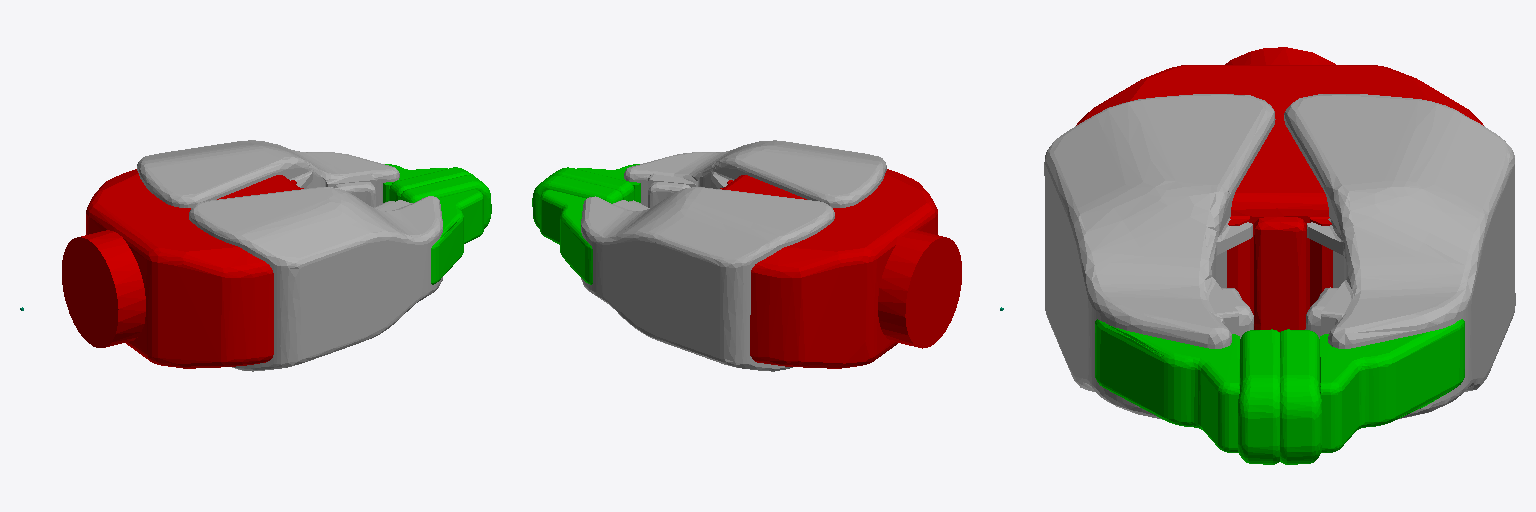
robot.urdf — pr2hand:
<?xml version="1.0" ?>
<!-- =================================================================================== -->
<!-- |    This document was autogenerated by xacro from robots/pr2hand.urdf.xacro      | -->
<!-- |    EDITING THIS FILE BY HAND IS NOT RECOMMENDED                                 | -->
<!-- =================================================================================== -->
<robot name="pr2hand">
  <material name="Blue">
    <color rgba="0.0 0.0 0.8 1.0"/>
  </material>
  <material name="Green">
    <color rgba="0.0 0.8 0.0 1.0"/>
  </material>
  <material name="Grey">
    <color rgba="0.7 0.7 0.7 1.0"/>
  </material>
  <material name="Grey2">
    <color rgba="0.9 0.9 0.9 1.0"/>
  </material>
  <material name="Red">
    <color rgba="0.8 0.0 0.0 1.0"/>
  </material>
  <material name="White">
    <color rgba="1.0 1.0 1.0 1.0"/>
  </material>
  <material name="Black">
    <color rgba="0.1 0.1 0.1 1.0"/>
  </material>
  <material name="LightGrey">
    <color rgba="0.6 0.6 0.6 1.0"/>
  </material>
  <material name="Caster">
    <texture filename="package://pr2hand/materials/textures/pr2_caster_texture.png"/>
  </material>
  <material name="Wheel_l">
    <texture filename="package://pr2hand/materials/textures/pr2_wheel_left.png"/>
  </material>
  <material name="Wheel_r">
    <texture filename="package://pr2hand/materials/textures/pr2_wheel_right.png"/>
  </material>
  <material name="RollLinks">
    <texture filename="package://pr2hand/materials/textures/pr2_wheel_left.png"/>
  </material>
  <link name="base_link">
    <inertial>
      <mass value="0.58007"/>
      <origin rpy="0 0 0" xyz="0.06623 0.00053 -0.00119"/>
      <inertia ixx="0.00035223921" ixy="-0.00001580476" ixz="-0.00000091750" iyy="0.00067741312" iyz="-0.00000059554" izz="0.00086563316"/>
    </inertial>
    <visual>
      <origin rpy="0 0 0" xyz="0 0 0"/>
      <geometry>
        <mesh filename="package://pr2hand/meshes/gripper_v0/gripper_palm.dae"/>
      </geometry>
      <material name="Red"/>
    </visual>
    <collision>
      <origin rpy="0 0 0" xyz="0 0 0"/>
      <geometry>
        <mesh filename="package://pr2hand/meshes/gripper_v0/gripper_palm.stl"/>
      </geometry>
    </collision>
  </link>
  <joint name="r_gripper_led_joint" type="fixed">
    <!--  Need to check if we need a positive or negative Z term -->
    <origin xyz="0.0513 0.0 .0244"/>
    <parent link="base_link"/>
    <child link="r_gripper_led_frame"/>
  </joint>
  <link name="r_gripper_led_frame"/>
  <joint name="r_gripper_motor_accelerometer_joint" type="fixed">
    <origin rpy="0 0 0" xyz="0 0 0"/>
    <parent link="base_link"/>
    <child link="r_gripper_motor_accelerometer_link"/>
  </joint>
  <link name="r_gripper_motor_accelerometer_link">
    <inertial>
      <mass value="0.001"/>
      <origin rpy="0 0 0" xyz="0 0 0"/>
      <inertia ixx="0.001" ixy="0.0" ixz="0.0" iyy="0.001" iyz="0.0" izz="0.001"/>
    </inertial>
    <visual>
      <origin rpy="0 0 0" xyz="0 0 0"/>
      <geometry>
        <box size="0.001 0.001 0.001"/>
      </geometry>
    </visual>
    <collision>
      <origin rpy="0 0 0" xyz="0 0 0"/>
      <geometry>
        <box size="0.001 0.001 0.001"/>
      </geometry>
    </collision>
  </link>
  <joint name="r_gripper_tool_joint" type="fixed">
    <origin rpy="0 0 0" xyz="0.18 0 0"/>
    <parent link="base_link"/>
    <child link="r_gripper_tool_frame"/>
  </joint>
  <link name="r_gripper_tool_frame"/>
  <!-- actuated motor screw joint -->
  <link name="r_gripper_motor_slider_link">
    <inertial>
      <mass value="0.01"/>
      <origin rpy="0 0 0" xyz="0 0 0"/>
      <inertia ixx="0.001" ixy="0.0" ixz="0.0" iyy="0.001" iyz="0.0" izz="0.001"/>
    </inertial>
    <!-- for debugging only
      <visual>
        <origin xyz="0 0 0" rpy="1.5708 0 0" />
        <geometry>
          <cylinder length="0.002" radius="0.025"/>
        </geometry>
      </visual>
      <collision>
        <origin xyz="0 0 0" rpy="1.5708 0 0" />
        <geometry>
          <cylinder length="0.002" radius="0.025"/>
        </geometry>
      </collision>
      -->
  </link>
  <joint name="r_gripper_motor_slider_joint" type="prismatic">
    <origin rpy="0 0 0" xyz="0.16828 0 0"/>
    <axis xyz="1 0 0"/>
    <parent link="base_link"/>
    <child link="r_gripper_motor_slider_link"/>
    <limit effort="1000.0" lower="-0.1" upper="0.1" velocity="0.2"/>
  </joint>
  <link name="r_gripper_motor_screw_link">
    <inertial>
      <mass value="0.01"/>
      <origin rpy="0 0 0" xyz="0 0 0"/>
      <inertia ixx="0.0001" ixy="0.0" ixz="0.0" iyy="0.0001" iyz="0.0" izz="0.0001"/>
    </inertial>
    <!-- for debugging only
      <visual>
        <origin xyz="0 0 0" rpy="0 0 0" />
        <geometry>
          <box size="0.05 0.001 0.05" />
        </geometry>
      </visual>
      <collision>
        <origin xyz="0 0 0" rpy="0 0 0" />
        <geometry>
          <box size="0.05 0.001 0.05" />
        </geometry>
      </collision>
      -->
  </link>
  <joint name="r_gripper_motor_screw_joint" type="continuous">
    <origin rpy="0 0 0" xyz="0.0 0 0"/>
    <axis xyz="0 1 0"/>
    <parent link="r_gripper_motor_slider_link"/>
    <child link="r_gripper_motor_screw_link"/>
    <dynamics damping="0.0001"/>
  </joint>
  <!-- Finger proximal digit -->
  <joint name="r_gripper_l_finger_joint" type="revolute">
    <axis xyz="0 0 1"/>
    <!-- limits on passive finger and finger top joints without
         transmission are not enforced by safety controllers.
         The lower/upper limits and are enforced in PR2 simulation and
         effort and velocity limits are ignored. This is also needed because
         these joints are declared revolute rather than continuous.-->
    <limit effort="1000.0" lower="0.0" upper="0.548" velocity="0.5"/>
    <dynamics damping="0.02"/>
    <origin rpy="0 0 0" xyz="0.07691 0.01 0"/>
    <parent link="base_link"/>
    <child link="r_gripper_l_finger_link"/>
  </joint>
  <link name="r_gripper_l_finger_link">
    <inertial>
      <mass value="0.17126"/>
      <origin rpy="0 0 0" xyz="0.03598 0.01730 -0.00164"/>
      <inertia ixx="0.00007756198" ixy="0.00000149095" ixz="-0.00000983385" iyy="0.00019708305" iyz="-0.00000306125" izz="0.00018105446"/>
    </inertial>
    <visual>
      <origin rpy="0 0 0" xyz="0 0 0"/>
      <geometry>
        <mesh filename="package://pr2hand/meshes/gripper_v0/l_finger.dae"/>
      </geometry>
      <material name="Grey"/>
    </visual>
    <collision>
      <origin rpy="0 0 0" xyz="0 0 0"/>
      <geometry>
        <mesh filename="package://pr2hand/meshes/gripper_v0/l_finger.stl"/>
      </geometry>
    </collision>
  </link>
  <joint name="r_gripper_l_keypoint1_joint" type="revolute">
    <axis xyz="0 0 1"/>
    <!-- <origin xyz="${0.09137} ${-0.00495} 0" rpy="0 0 0" /> -->
    <origin rpy="0 0 0" xyz="0.071 0.0032 0.0"/>
    <!-- limits on passive finger and finger top joints without
         transmission are not enforced by safety controllers.
         The lower/upper limits and are enforced in PR2 simulation and
         effort and velocity limits are ignored. This is also needed because
         these joints are declared revolute rather than continuous.-->
    <limit effort="1000.0" lower="0.0" upper="0.548" velocity="0.5"/>
    <dynamics damping="0.001"/>
    <parent link="r_gripper_l_finger_link"/>
    <child link="r_gripper_l_keypoint1_link"/>
  </joint>
  <link name="r_gripper_l_keypoint1_link"/>
  <!-- Finger proximal digit -->
  <joint name="r_gripper_r_finger_joint" type="revolute">
    <axis xyz="0 0 -1"/>
    <origin rpy="0 0 0" xyz="0.07691 -0.01 0"/>
    <!-- limits on passive finger and finger top joints without
         transmission are not enforced by safety controllers.
         The lower/upper limits and are enforced in PR2 simulation and
         effort and velocity limits are ignored. This is also needed because
         these joints are declared revolute rather than continuous.-->
    <limit effort="1000.0" lower="0.0" upper="0.548" velocity="0.5"/>
    <dynamics damping="0.02"/>
    <mimic joint="r_gripper_l_finger_joint" multiplier="1" offset="0"/>
    <parent link="base_link"/>
    <child link="r_gripper_r_finger_link"/>
  </joint>
  <link name="r_gripper_r_finger_link">
    <inertial>
      <mass value="0.17389"/>
      <origin rpy="0 0 0" xyz="0.03576 -0.01736 -0.00095"/>
      <inertia ixx="0.00007738410" ixy="-0.00000209309" ixz="-0.00000836228" iyy="0.00019847383" iyz="0.00000246110" izz="0.00018106988"/>
    </inertial>
    <visual>
      <origin rpy="3.141592653589793 0 0" xyz="0 0 0"/>
      <geometry>
        <mesh filename="package://pr2hand/meshes/gripper_v0/l_finger.dae"/>
      </geometry>
      <material name="Grey"/>
    </visual>
    <collision>
      <origin rpy="3.141592653589793 0 0" xyz="0 0 0"/>
      <geometry>
        <mesh filename="package://pr2hand/meshes/gripper_v0/l_finger.stl"/>
      </geometry>
    </collision>
  </link>
  <!-- Finger tip -->
  <joint name="r_gripper_l_finger_tip_joint" type="revolute">
    <axis xyz="0 0 -1"/>
    <origin rpy="0 0 0" xyz="0.09137 0.00495 0"/>
    <!-- limits on passive finger and finger top joints without
         transmission are not enforced by safety controllers.
         The lower/upper limits and are enforced in PR2 simulation and
         effort and velocity limits are ignored. This is also needed because
         these joints are declared revolute rather than continuous.-->
    <limit effort="1000.0" lower="0.0" upper="0.548" velocity="0.5"/>
    <dynamics damping="0.001"/>
    <mimic joint="r_gripper_l_finger_joint" multiplier="1" offset="0"/>
    <parent link="r_gripper_l_finger_link"/>
    <child link="r_gripper_l_finger_tip_link"/>
  </joint>
  <link name="r_gripper_l_finger_tip_link">
    <inertial>
      <mass value="0.04419"/>
      <origin rpy="0 0 0" xyz="0.00423 0.00284 0.0"/>
      <inertia ixx="0.00000837047" ixy="0.00000583632" ixz="0.0" iyy="0.00000987067" iyz="0.0" izz="0.00001541768"/>
    </inertial>
    <visual>
      <origin rpy="0 0 0" xyz="0 0 0"/>
      <geometry>
        <mesh filename="package://pr2hand/meshes/gripper_v0/l_finger_tip.dae"/>
      </geometry>
      <material name="Green"/>
    </visual>
    <collision>
      <origin rpy="0 0 0" xyz="0 0 0"/>
      <geometry>
        <mesh filename="package://pr2hand/meshes/gripper_v0/l_finger_tip.stl"/>
      </geometry>
    </collision>
  </link>
  <!-- Finger tip -->
  <joint name="r_gripper_r_finger_tip_joint" type="revolute">
    <axis xyz="0 0 1"/>
    <origin rpy="0 0 0" xyz="0.09137 -0.00495 0"/>
    <!-- limits on passive finger and finger top joints without
         transmission are not enforced by safety controllers.
         The lower/upper limits and are enforced in PR2 simulation and
         effort and velocity limits are ignored. This is also needed because
         these joints are declared revolute rather than continuous.-->
    <limit effort="1000.0" lower="0.0" upper="0.548" velocity="0.5"/>
    <dynamics damping="0.001"/>
    <mimic joint="r_gripper_l_finger_joint" multiplier="1" offset="0"/>
    <parent link="r_gripper_r_finger_link"/>
    <child link="r_gripper_r_finger_tip_link"/>
  </joint>
  <link name="r_gripper_r_finger_tip_link">
    <inertial>
      <mass value="0.04419"/>
      <origin rpy="0 0 0" xyz="0.00423 -0.00284 0.0"/>
      <inertia ixx="0.00000837047" ixy="-0.00000583632" ixz="0.0" iyy="0.00000987067" iyz="0.0" izz="0.00001541768"/>
    </inertial>
    <visual>
      <origin rpy="3.141592653589793 0 0" xyz="0 0 0"/>
      <geometry>
        <mesh filename="package://pr2hand/meshes/gripper_v0/l_finger_tip.dae"/>
      </geometry>
      <material name="Green"/>
    </visual>
    <collision>
      <origin rpy="3.141592653589793 0 0" xyz="0 0 0"/>
      <geometry>
        <mesh filename="package://pr2hand/meshes/gripper_v0/l_finger_tip.stl"/>
      </geometry>
    </collision>
  </link>
  <joint name="r_gripper_r_keypoint1_joint" type="revolute">
    <axis xyz="0 0 1"/>
    <!-- <origin xyz="${0.09137} ${-0.00495} 0" rpy="0 0 0" /> -->
    <origin rpy="0 0 0" xyz="0.071 -0.0032 0.0"/>
    <!-- limits on passive finger and finger top joints without
         transmission are not enforced by safety controllers.
         The lower/upper limits and are enforced in PR2 simulation and
         effort and velocity limits are ignored. This is also needed because
         these joints are declared revolute rather than continuous.-->
    <limit effort="1000.0" lower="0.0" upper="0.548" velocity="0.5"/>
    <dynamics damping="0.001"/>
    <parent link="r_gripper_r_finger_link"/>
    <child link="r_gripper_r_keypoint1_link"/>
  </joint>
  <link name="r_gripper_r_keypoint1_link"/>
  <!-- Finger proximal digit -->
  <gazebo reference="r_gripper_l_finger_link">
    <turnGravityOff>true</turnGravityOff>
    <mu1 value="500.0"/>
    <mu2 value="500.0"/>
    <kp value="1000000.0"/>
    <kd value="1.0"/>
    <!-- for "${prefix}_l_finger_joint"-->
  </gazebo>
  <gazebo reference="r_gripper_l_finger_joint">
    <stopKd value="1.0"/>
    <stopKp value="10000000.0"/>
    <fudgeFactor value="1.0"/>
    <provideFeedback value="true"/>
  </gazebo>
  <!-- Finger proximal digit -->
  <gazebo reference="r_gripper_r_finger_link">
    <turnGravityOff>true</turnGravityOff>
    <mu1 value="500.0"/>
    <mu2 value="500.0"/>
    <kp value="1000000.0"/>
    <kd value="1.0"/>
  </gazebo>
  <gazebo reference="r_gripper_r_finger_joint">
    <stopKd value="1.0"/>
    <stopKp value="10000000.0"/>
    <fudgeFactor value="1.0"/>
    <provideFeedback value="true"/>
  </gazebo>
  <!-- Finger tip -->
  <gazebo reference="r_gripper_l_finger_tip_link">
    <turnGravityOff>true</turnGravityOff>
    <selfCollide>false</selfCollide>
    <sensor name="r_gripper_l_finger_tip_contact_sensor" type="contact">
      <update_rate>100.0</update_rate>
      <contact>
        <collision>r_gripper_l_finger_tip_link_collision</collision>
      </contact>
      <plugin filename="libgazebo_ros_bumper.so" name="r_gripper_l_finger_tip_gazebo_ros_bumper_controller">
        <alwaysOn>true</alwaysOn>
        <frameName>r_gripper_l_finger_tip_link</frameName>
        <updateRate>100.0</updateRate>
        <bumperTopicName>r_gripper_l_finger_tip_bumper</bumperTopicName>
      </plugin>
    </sensor>
    <mu1 value="500.0"/>
    <mu2 value="500.0"/>
    <kp value="10000000.0"/>
    <kd value="1.0"/>
  </gazebo>
  <gazebo reference="r_gripper_l_finger_tip_joint">
    <stopKd value="1.0"/>
    <stopKp value="10000000.0"/>
    <fudgeFactor value="1.0"/>
    <provideFeedback value="true"/>
  </gazebo>
  <!-- Finger tip -->
  <gazebo reference="r_gripper_r_finger_tip_link">
    <turnGravityOff>true</turnGravityOff>
    <selfCollide>false</selfCollide>
    <sensor name="r_gripper_r_finger_tip_contact_sensor" type="contact">
      <update_rate>100.0</update_rate>
      <contact>
        <collision>r_gripper_r_finger_tip_link_collision</collision>
      </contact>
      <plugin filename="libgazebo_ros_bumper.so" name="r_gripper_r_finger_tip_gazebo_ros_bumper_controller">
        <alwaysOn>true</alwaysOn>
        <frameName>r_gripper_r_finger_tip_link</frameName>
        <updateRate>100.0</updateRate>
        <bumperTopicName>r_gripper_r_finger_tip_bumper</bumperTopicName>
      </plugin>
    </sensor>
    <mu1 value="500.0"/>
    <mu2 value="500.0"/>
    <kp value="10000000.0"/>
    <kd value="1.0"/>
  </gazebo>
  <gazebo>
    <plugin filename="libgazebo_ros_p3d.so" name="p3d_r_gripper_l_finger_controller">
      <alwaysOn>true</alwaysOn>
      <updateRate>100.0</updateRate>
      <bodyName>r_gripper_l_finger_link</bodyName>
      <topicName>r_gripper_l_finger_pose_ground_truth</topicName>
      <gaussianNoise>0.0</gaussianNoise>
      <frameName>base_link</frameName>
    </plugin>
    <plugin filename="libgazebo_ros_f3d.so" name="f3d_r_gripper_l_finger_controller">
      <alwaysOn>true</alwaysOn>
      <updateRate>100.0</updateRate>
      <bodyName>r_gripper_l_finger_link</bodyName>
      <topicName>r_gripper_l_finger_force_ground_truth</topicName>
    </plugin>
  </gazebo>
  <gazebo reference="r_gripper_r_finger_tip_joint">
    <stopKd value="1.0"/>
    <stopKp value="10000000.0"/>
    <fudgeFactor value="1.0"/>
    <provideFeedback value="true"/>
  </gazebo>
  <!-- parallel link for simulating gripper constraints -->
  <gazebo>
    <link name="r_gripper_l_parallel_link">
      <inertial>
        <mass>0.17126</mass>
        <inertia>
          <ixx>7.7562e-05</ixx>
          <ixy>1.49095e-06</ixy>
          <ixz>-9.83385e-06</ixz>
          <iyy>0.000197083</iyy>
          <iyz>-3.06125e-06</iyz>
          <izz>0.000181054</izz>
        </inertia>
        <pose>0.03598 0.0173 -0.00164 0 0 0</pose>
      </inertial>
      <pose>0.82991 -0.157 0.790675 0 -0 0</pose>
      <gravity>false</gravity>
    </link>
    <link name="r_gripper_r_parallel_link">
      <inertial>
        <mass>0.17389</mass>
        <inertia>
          <ixx>7.73841e-05</ixx>
          <ixy>-2.09309e-06</ixy>
          <ixz>-8.36228e-06</ixz>
          <iyy>0.000198474</iyy>
          <iyz>2.4611e-06</iyz>
          <izz>0.00018107</izz>
        </inertia>
        <pose>0.03576 -0.01736 -0.00095 0 0 0</pose>
      </inertial>
      <pose>0.82991 -0.219 0.790675 0 0 0</pose>
      <gravity>false</gravity>
    </link>
  </gazebo>
  <gazebo>
    <joint name="r_gripper_r_screw_screw_joint" type="screw">
      <child>r_gripper_motor_screw_link</child>
      <parent>r_gripper_r_finger_tip_link</parent>
      <thread_pitch>-3141.6</thread_pitch>
      <axis>
        <xyz>0 1 0</xyz>
      </axis>
    </joint>
    <joint name="r_gripper_l_screw_screw_joint" type="screw">
      <parent>r_gripper_l_finger_tip_link</parent>
      <child>r_gripper_motor_screw_link</child>
      <thread_pitch>3141.6</thread_pitch>
      <axis>
        <xyz>0 1 0</xyz>
      </axis>
    </joint>
  </gazebo>
  <gazebo>
    <joint name="r_gripper_r_parallel_root_joint" type="revolute">
      <parent>r_gripper_r_parallel_link</parent>
      <child>r_gripper_palm_link</child>
      <axis>
        <xyz>0 0 -1</xyz>
        <dynamics>
          <damping>0.2</damping>
        </dynamics>
      </axis>
      <pose>0.058910000000000004 -0.031 0 0 0 0</pose>
    </joint>
    <joint name="r_gripper_l_parallel_root_joint" type="revolute">
      <parent>r_gripper_l_parallel_link</parent>
      <child>r_gripper_palm_link</child>
      <axis>
        <xyz>0 0 1</xyz>
        <dynamics>
          <damping>0.2</damping>
        </dynamics>
      </axis>
      <pose>0.058910000000000004 0.031 0 0 0 0</pose>
    </joint>
    <joint name="r_gripper_r_parallel_tip_joint" type="revolute">
      <parent>r_gripper_r_parallel_link</parent>
      <child>r_gripper_r_finger_tip_link</child>
      <axis>
        <xyz>0 0 1</xyz>
      </axis>
      <pose>-0.018 -0.021 0 0 0 0</pose>
    </joint>
    <joint name="r_gripper_l_parallel_tip_joint" type="revolute">
      <parent>r_gripper_l_parallel_link</parent>
      <child>r_gripper_l_finger_tip_link</child>
      <axis>
        <xyz>0 0 1</xyz>
      </axis>
      <pose>-0.018 0.021 0 0 0 0</pose>
    </joint>
    <joint name="r_gripper_joint" type="prismatic">
      <parent>r_gripper_r_finger_tip_link</parent>
      <child>r_gripper_l_finger_tip_link</child>
      <axis>
        <xyz>0 1 0</xyz>
      </axis>
    </joint>
  </gazebo>
  <gazebo reference="r_gripper_motor_slider_link">
    <turnGravityOff>true</turnGravityOff>
    <material value="PR2/Red"/>
  </gazebo>
  <gazebo reference="r_gripper_motor_screw_link">
    <turnGravityOff>true</turnGravityOff>
    <material value="PR2/Red"/>
  </gazebo>
  <gazebo reference="r_gripper_l_parallel_link">
    <turnGravityOff>true</turnGravityOff>
    <material value="PR2/Red"/>
  </gazebo>
  <gazebo reference="r_gripper_r_parallel_link">
    <turnGravityOff>true</turnGravityOff>
    <material value="PR2/Red"/>
  </gazebo>
  <!-- fictitous joint that represents the gripper gap -->
  <!-- effort is the linear force at the gripper gap
         velocity limit is the linear velocity limit at the gripper gap
         try and introduce a very stiff spring
         The velocity limits are alpha tested.
         The effort limits are somewhat inflated.
         k_velocity was recently raised from 500.0 to 5000.0.  Tested on beta
    -->
  <joint name="r_gripper_joint" type="prismatic">
    <parent link="r_gripper_r_finger_tip_link"/>
    <child link="r_gripper_l_finger_tip_frame"/>
    <axis xyz="0 1 0"/>
    <dynamics damping="10.0"/>
    <limit effort="1000.0" lower="0.0" upper="0.09" velocity="0.2"/>
    <safety_controller k_position="20.0" k_velocity="5000.0" soft_lower_limit="-0.01" soft_upper_limit="0.088"/>
  </joint>
  <!-- This link is the same as the l_finger_tip_link,
	 but because the urdf does not support graph structures,
	 this link exists twice -->
  <link name="r_gripper_l_finger_tip_frame"/>
  <gazebo reference="r_gripper_palm_link">
    <turnGravityOff>true</turnGravityOff>
  </gazebo>
  <gazebo>
    <plugin filename="libgazebo_ros_p3d.so" name="p3d_r_gripper_palm_controller">
      <alwaysOn>true</alwaysOn>
      <updateRate>100.0</updateRate>
      <bodyName>r_gripper_palm_link</bodyName>
      <topicName>r_gripper_palm_pose_ground_truth</topicName>
      <xyzOffsets>0 0 0</xyzOffsets>
      <rpyOffsets>0 0 0</rpyOffsets>
      <gaussianNoise>0.0</gaussianNoise>
      <frameName>map</frameName>
    </plugin>
    <!-- a formal implementation of grasp hack in gazebo with fixed joint -->
    <gripper name="r_grasp_hack">
      <grasp_check>
        <attach_steps>20</attach_steps>
        <detach_steps>40</detach_steps>
        <min_contact_count>2</min_contact_count>
      </grasp_check>
      <gripper_link>r_gripper_r_finger_tip_link</gripper_link>
      <gripper_link>r_gripper_l_finger_tip_link</gripper_link>
      <palm_link>r_gripper_palm_link</palm_link>
    </gripper>
  </gazebo>
  <!-- [lr]_gripper_joint is a fictitious joint, used by transmission for controller gap   -->
  <!-- [lr]_gripper_joint is not attached to any link                                      -->
  <!-- [lr]_gripper_joint position is the gap_size                                         -->
  <!-- [lr]_gripper_joint velocity is the gap linear velocity                              -->
  <!-- [lr]_gripper_joint effort   is the gap linear force                                 -->
  <!-- Please refer to function engineering spreadsheet 090224_link_data.xls for           -->
  <!-- the transmission function.                                                          -->
  <!-- Please refer to mechanism_model/src/pr2_gripper_transmission.cpp for implementation.-->
  <!-- gazebo_mimic_pid is for sim only.                                                   -->
  
</robot>

--- Render facts (derived) ---
Views: 3 orthographic renders of the robot side by side, from view 1: azimuth 30°, elevation 25°; view 2: azimuth 150°, elevation 25°; view 3: azimuth 270°, elevation 25°.
Model pr2hand with 13 links and 12 joints (6 revolute, 1 continuous, 2 prismatic, 3 fixed), rooted at base_link, posed all joints at 0.
Visible links, largest first — view 1: base_link, r_gripper_r_finger_link, r_gripper_l_finger_link, r_gripper_r_finger_tip_link, r_gripper_l_finger_tip_link; view 2: base_link, r_gripper_l_finger_link, r_gripper_r_finger_link, r_gripper_l_finger_tip_link, r_gripper_r_finger_tip_link; view 3: r_gripper_r_finger_link, r_gripper_l_finger_link, base_link, r_gripper_l_finger_tip_link, r_gripper_r_finger_tip_link.
Boxes of the visible links, box(x1,y1,x2,y2) form: base_link: box(62, 169, 303, 368); r_gripper_r_finger_link: box(189, 187, 442, 371); r_gripper_l_finger_link: box(137, 140, 399, 207); r_gripper_r_finger_tip_link: box(400, 175, 491, 284); r_gripper_l_finger_tip_link: box(383, 164, 474, 202); base_link: box(720, 169, 961, 368); r_gripper_l_finger_link: box(581, 187, 834, 371); r_gripper_r_finger_link: box(624, 140, 886, 207); r_gripper_l_finger_tip_link: box(532, 175, 623, 284); r_gripper_r_finger_tip_link: box(549, 164, 640, 202); r_gripper_r_finger_link: box(1044, 94, 1275, 419); r_gripper_l_finger_link: box(1284, 94, 1515, 419); base_link: box(1076, 47, 1483, 331); r_gripper_l_finger_tip_link: box(1280, 319, 1464, 464); r_gripper_r_finger_tip_link: box(1095, 319, 1279, 464).
Bounding box of the posed robot: 0.2 × 0.1115 × 0.0562 m (x, y, z).
Meshes: 3 distinct files referenced, 5 mesh visuals loaded (3 Collada DAE).